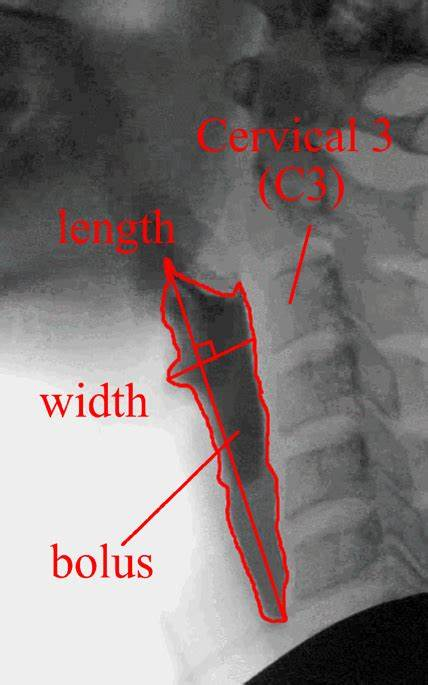telestration: (155, 257, 300, 628), (189, 112, 398, 219), (120, 436, 240, 548), (56, 204, 182, 250), (40, 375, 153, 422), (50, 543, 155, 585), (282, 222, 325, 305)
